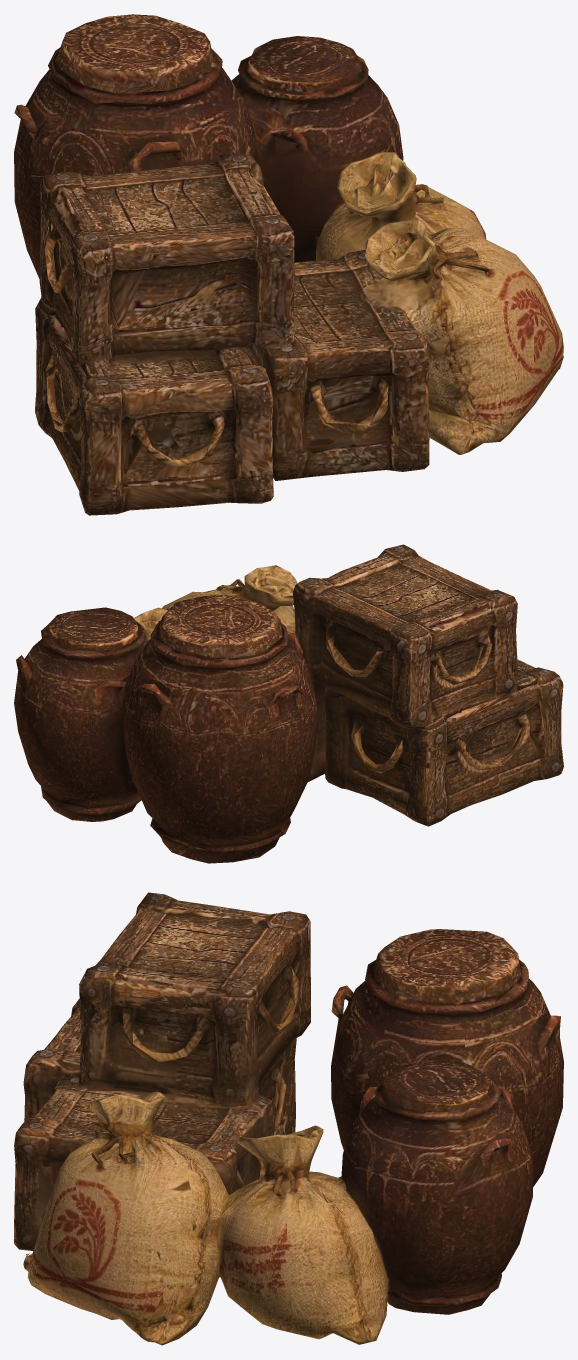
Rendered from caixotes.glb.
3 renders of one model, top to bottom at view 1: azimuth 30°, elevation 25°; view 2: azimuth 150°, elevation 25°; view 3: azimuth 270°, elevation 25°, orthographic. The views are drawn at different scales.
Parts seen in each view (by area): view 1: caixotes; view 2: caixotes; view 3: caixotes.
Boxes of the visible parts, x1,y1,x2,y2 form: caixotes: (14,14,563,515); caixotes: (14,544,563,863); caixotes: (14,892,563,1345).
Bounding box in the file's own units: 2.9 × 1.5 × 2.8.
1 material, 1 textured.
